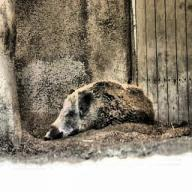boar: (43, 80, 155, 140)
